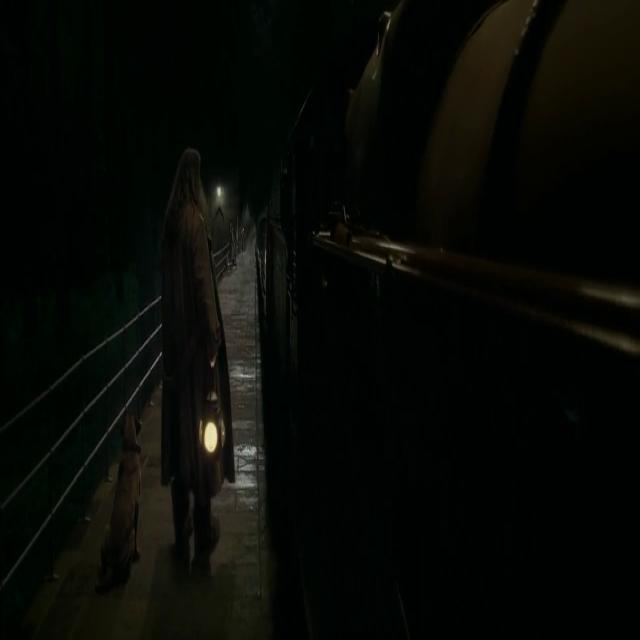People: (164, 126, 243, 577)
dog: (99, 381, 145, 602)
